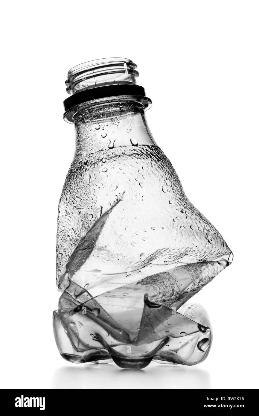Plastic Bottle: (52, 56, 234, 369)
